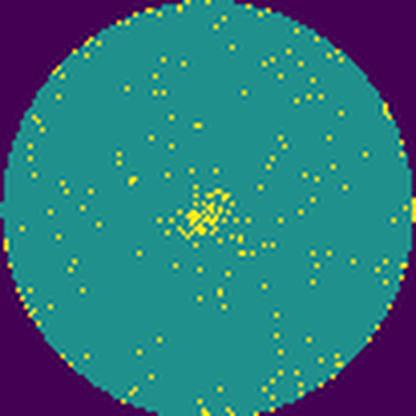Center: (173, 186, 235, 241)
